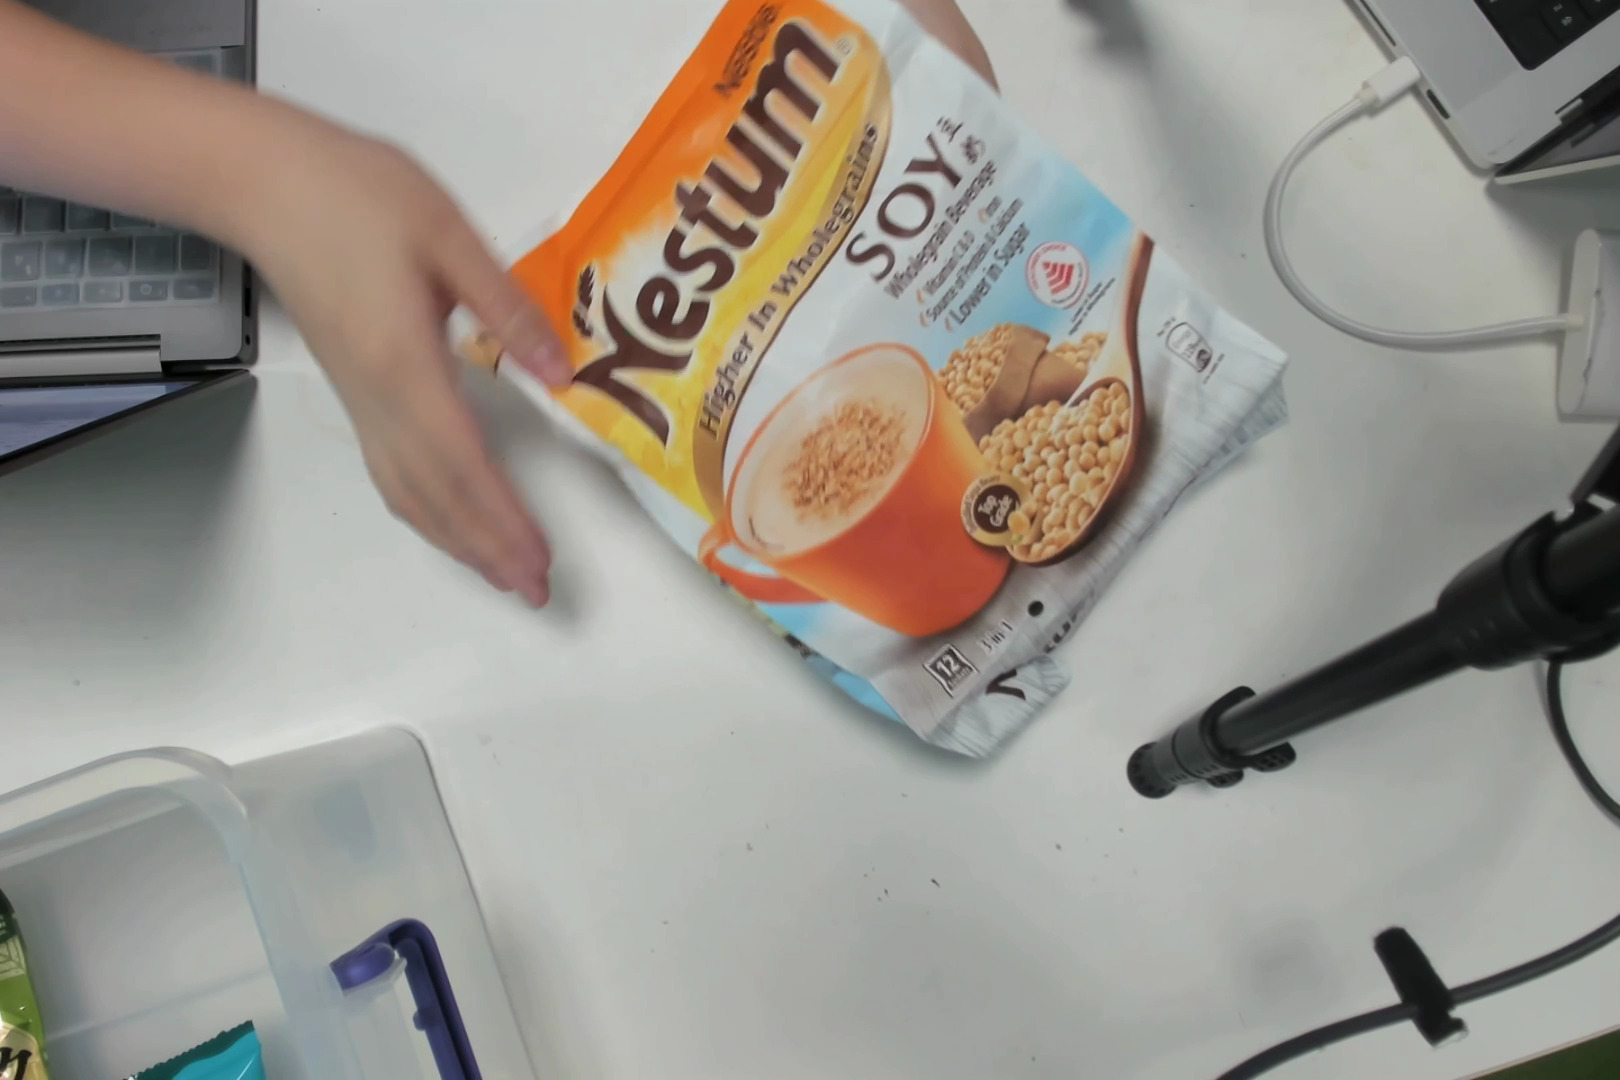e: (554, 16, 1227, 704)
